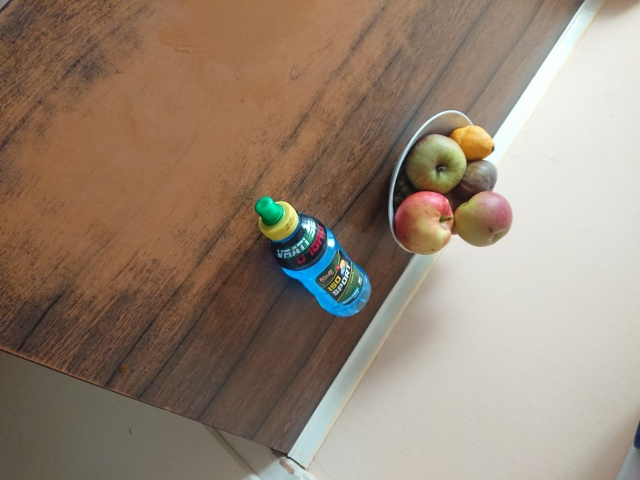Vindi Iso Sport Forest Strawberries 500mL: (253, 194, 374, 319)
